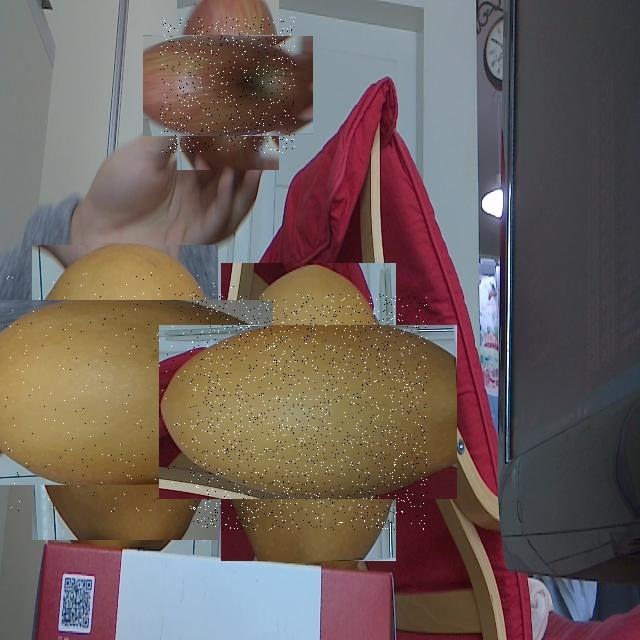apple: (160, 17, 296, 153)
pear: (5, 272, 246, 513), (190, 294, 427, 530)
